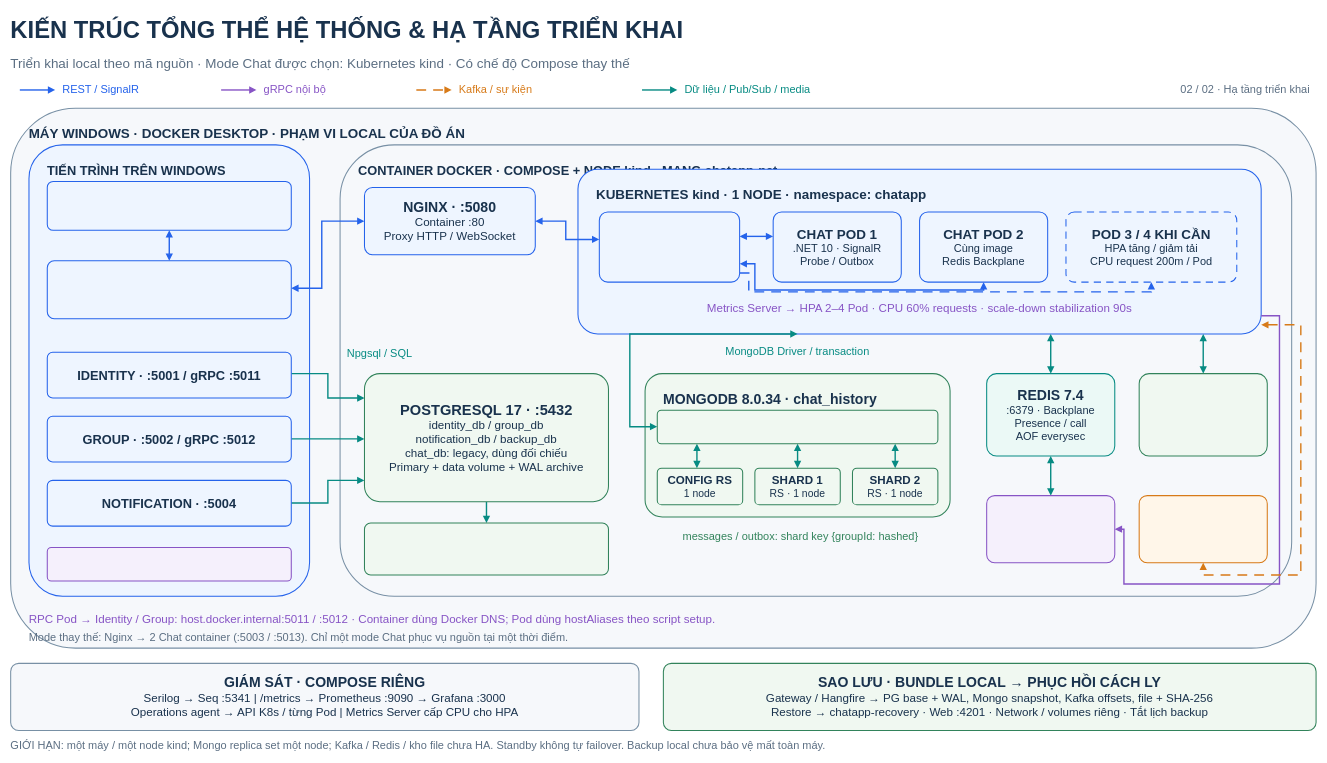
Image size: 1327x763. Some labels were removed from this diagram. The shapes that lost their labels are listed below. From the top down, each one's centre as x and y in pixels, then its label:
At pixel 169 206: "ANGULAR 12 · :4200 Node 14 · ng serve / web server local".
At pixel 669 246: "CHAT SERVICE NodePort :30080 Service → Pod :8080".
At pixel 169 289: "GATEWAY YARP · :5000 JWT · Định tuyến · Hangfire / backup_db".
At pixel 797 426: "mongos · mongo-router:27017".
At pixel 1203 414: "SEAWEEDFS S3 :8333 nội bộ Ảnh / File Volume dữ liệu".
At pixel 486 548: "POSTGRESQL STANDBY Streaming bất đồng bộ · Volume riêng".
At pixel 1050 529: "PRESENCE gRPC :5015 nội bộ Health :5005".
At pixel 1203 529: "KAFKA KRaft :9092 / nội bộ :29092 1 broker · UI :8080".
At pixel 169 564: "Operations agent · :18080".
